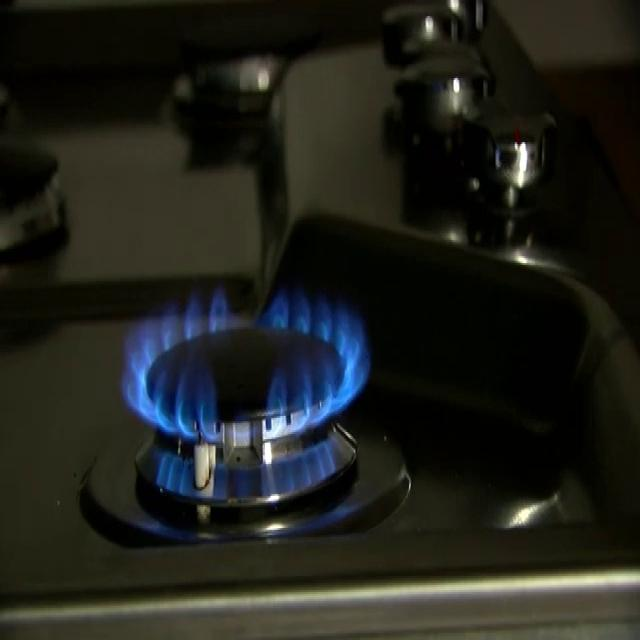fire: (104, 233, 420, 541)
